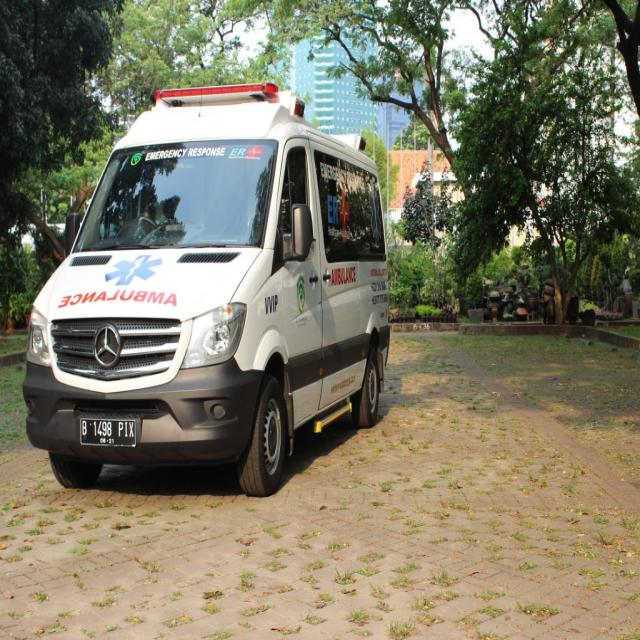ambulance: (21, 82, 390, 496)
